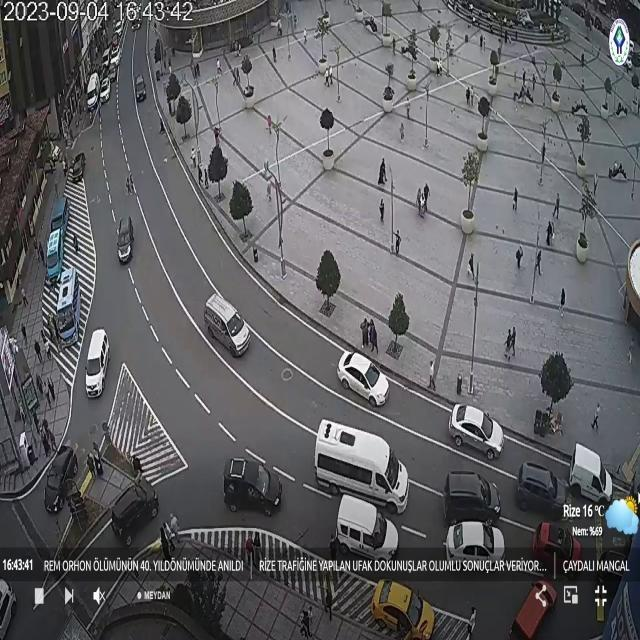Bus: (55, 267, 81, 348)
Car: (334, 492, 400, 568), (370, 577, 436, 640), (224, 456, 284, 518), (447, 400, 504, 462), (112, 478, 160, 548), (508, 576, 560, 640), (530, 522, 583, 583), (335, 350, 390, 408), (516, 461, 570, 518), (445, 522, 507, 570), (43, 444, 79, 515), (0, 576, 21, 640), (116, 216, 134, 265), (70, 154, 86, 184), (134, 74, 146, 102), (99, 78, 111, 102), (110, 49, 121, 67), (108, 62, 117, 83)
Van: (316, 417, 409, 514), (569, 442, 615, 511), (204, 293, 251, 360), (447, 471, 502, 527), (84, 327, 114, 399), (46, 228, 64, 280), (50, 198, 70, 237), (85, 73, 100, 109)
